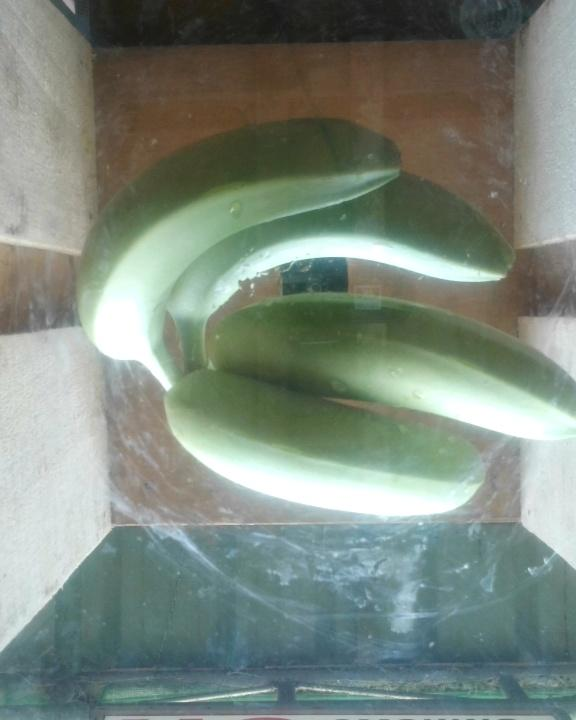SPOT: (64, 111, 576, 524)
